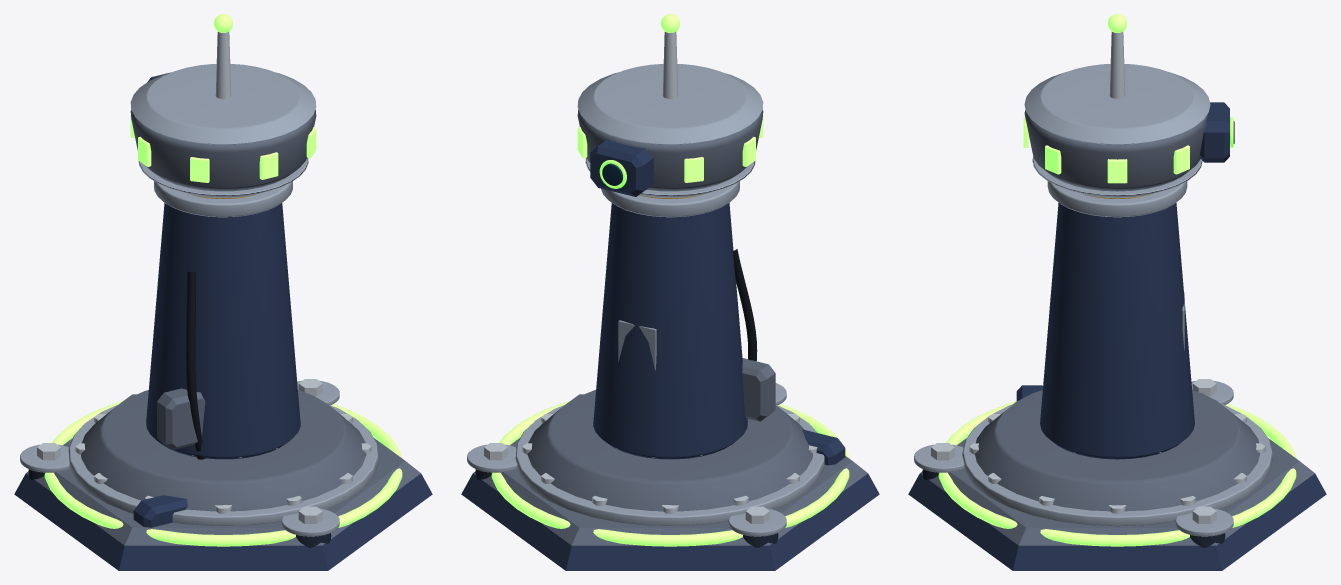
File: tower_detector_chassis.glb
3 renders of one model, left to right at view 1: azimuth 30°, elevation 25°; view 2: azimuth 150°, elevation 25°; view 3: azimuth 270°, elevation 25°, orthographic.
Parts seen in each view (by area): view 1: detector_column, detector_collar, detector_head_cap, detector_baseplate, detector_head, detector_baseplate_bevel, detector_flange, detector_seam, detector_column_collar, detector_junction_b, detector_loom, detector_junction (+5 smaller); view 2: detector_column, detector_collar, detector_head_cap, detector_baseplate, detector_flange, detector_baseplate_bevel, detector_head, detector_seam, detector_column_collar, detector_eye_housing, detector_junction_b, detector_anchor_washer0 (+7 smaller); view 3: detector_column, detector_collar, detector_head_cap, detector_baseplate, detector_head, detector_flange, detector_baseplate_bevel, detector_seam, detector_column_collar, detector_eye_housing, detector_head_base, detector_anchor_washer1 (+3 smaller).
Boxes of the visible parts, x1=… form: detector_column: x1=146, y1=203, x2=300, y2=459; detector_collar: x1=81, y1=389, x2=366, y2=511; detector_head_cap: x1=130, y1=64, x2=316, y2=144; detector_baseplate: x1=14, y1=473, x2=432, y2=570; detector_head: x1=130, y1=109, x2=316, y2=191; detector_baseplate_bevel: x1=26, y1=394, x2=420, y2=545; detector_flange: x1=68, y1=403, x2=378, y2=525; detector_seam: x1=44, y1=401, x2=402, y2=546; detector_column_collar: x1=154, y1=181, x2=292, y2=217; detector_junction_b: x1=157, y1=388, x2=205, y2=449; detector_loom: x1=186, y1=271, x2=205, y2=459; detector_junction: x1=133, y1=495, x2=187, y2=527; detector_column: x1=593, y1=203, x2=747, y2=459; detector_collar: x1=527, y1=389, x2=812, y2=511; detector_head_cap: x1=577, y1=64, x2=763, y2=144; detector_baseplate: x1=461, y1=473, x2=879, y2=570; detector_flange: x1=515, y1=404, x2=824, y2=525; detector_baseplate_bevel: x1=473, y1=394, x2=867, y2=545; detector_head: x1=577, y1=109, x2=763, y2=191; detector_seam: x1=491, y1=401, x2=849, y2=546; detector_column_collar: x1=601, y1=181, x2=739, y2=217; detector_eye_housing: x1=590, y1=139, x2=653, y2=196; detector_junction_b: x1=742, y1=358, x2=775, y2=421; detector_anchor_washer0: x1=728, y1=508, x2=786, y2=536; detector_column: x1=1040, y1=203, x2=1194, y2=459; detector_collar: x1=975, y1=390, x2=1259, y2=511; detector_head_cap: x1=1024, y1=64, x2=1210, y2=144; detector_baseplate: x1=908, y1=473, x2=1326, y2=570; detector_head: x1=1024, y1=109, x2=1207, y2=191; detector_flange: x1=962, y1=404, x2=1272, y2=526; detector_baseplate_bevel: x1=920, y1=402, x2=1314, y2=545; detector_seam: x1=938, y1=401, x2=1296, y2=546; detector_column_collar: x1=1047, y1=181, x2=1187, y2=217; detector_eye_housing: x1=1200, y1=102, x2=1229, y2=162; detector_head_base: x1=1032, y1=156, x2=1202, y2=198; detector_anchor_washer1: x1=1175, y1=508, x2=1233, y2=536.
Size of the model in its own units: 1.87 by 2.73 by 2.16.
